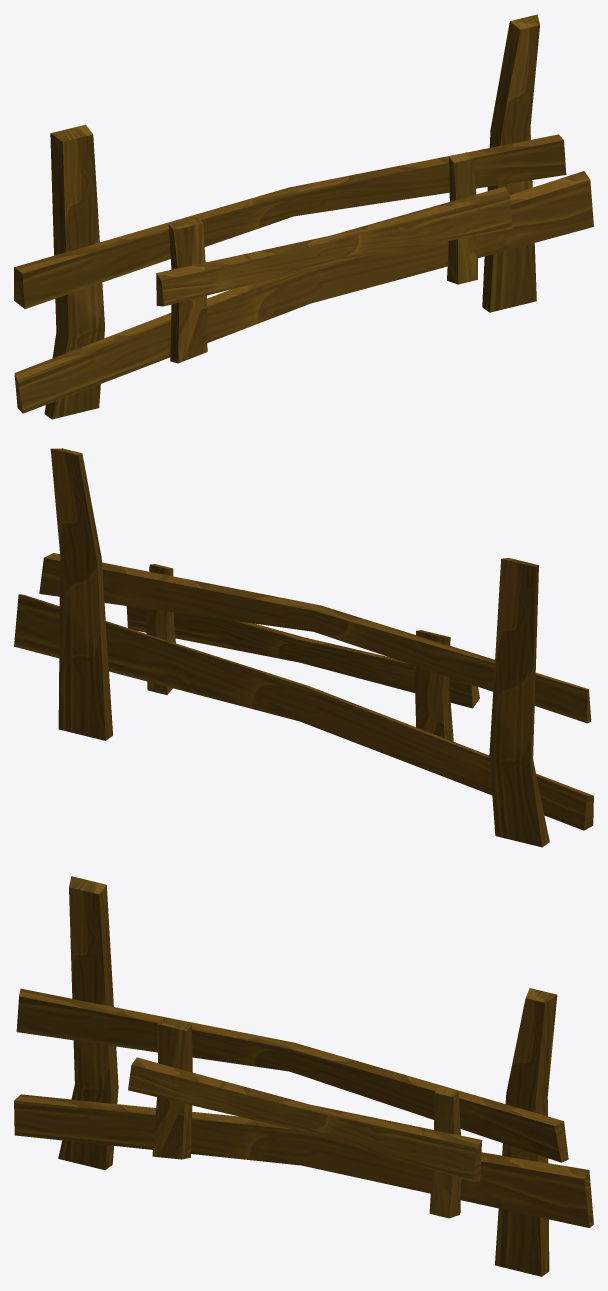
Rendered from 4_Valla_Oscura.fbx.
3 views of the same model, one above another, from view 1: azimuth 30°, elevation 25°; view 2: azimuth 150°, elevation 25°; view 3: azimuth 330°, elevation 25° (orthographic).
Visible parts, largest first — view 1: V_Valla4_Oscuro; view 2: V_Valla4_Oscuro; view 3: V_Valla4_Oscuro.
Boxes of the visible parts, bbox=[...] form: V_Valla4_Oscuro: bbox=[14, 14, 593, 419]; V_Valla4_Oscuro: bbox=[14, 448, 593, 847]; V_Valla4_Oscuro: bbox=[14, 876, 593, 1276].
Bounding box in the file's own units: 123 × 56.77 × 11.04.
